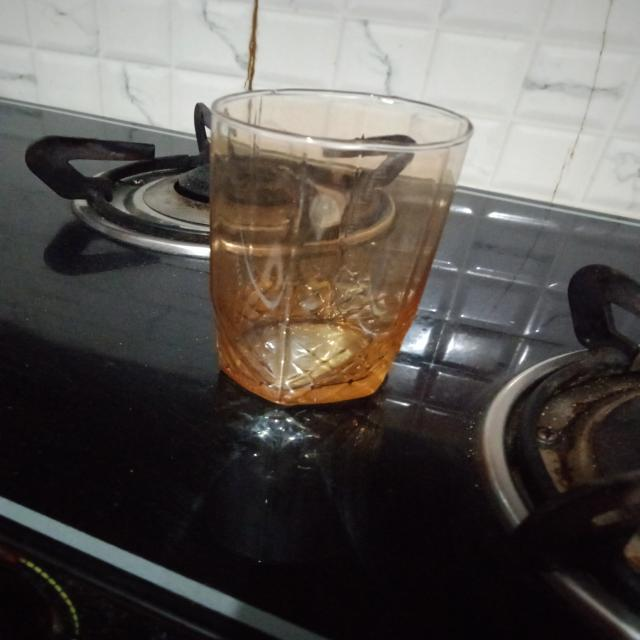Glass: (200, 84, 476, 409)
